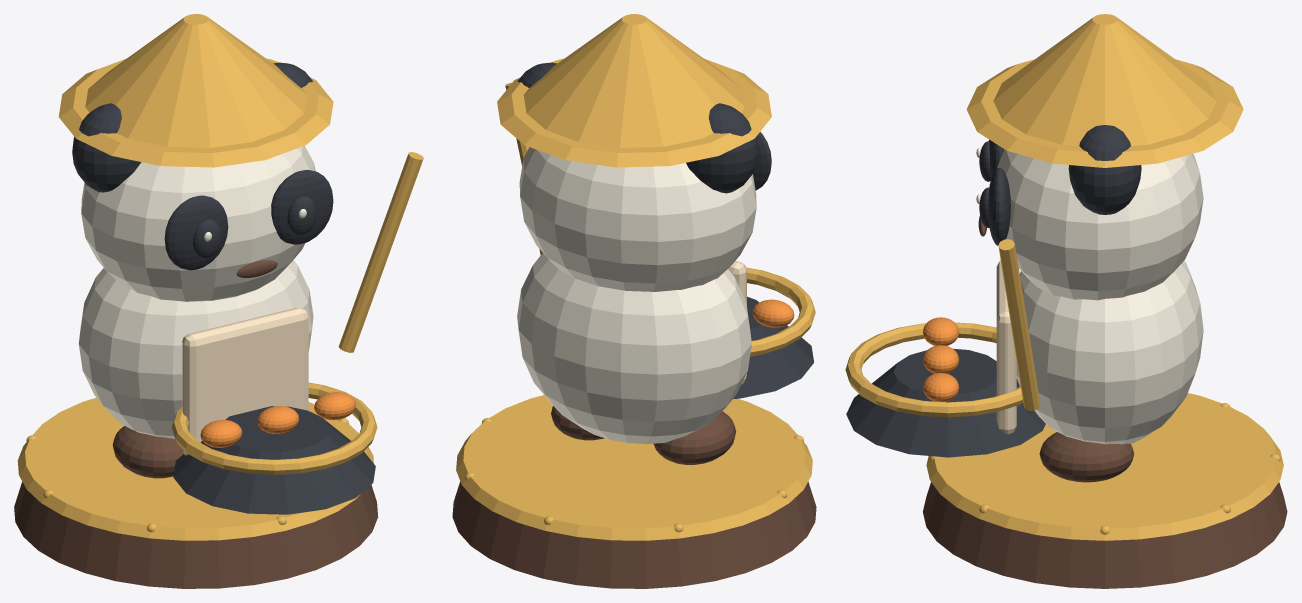
File: 06-panda-chef.glb
The picture shows the model from 3 angles, left to right: view 1: azimuth 30°, elevation 25°; view 2: azimuth 150°, elevation 25°; view 3: azimuth 270°, elevation 25°; orthographic projection.
Parts seen in each view (by area): view 1: gold filigree rim, panda torso, black ear, carved walnut plinth, chef apron, noodle garnish; view 2: gold filigree rim, panda torso, carved walnut plinth, black ear, noodle garnish; view 3: gold filigree rim, panda torso, carved walnut plinth, black ear, noodle garnish, chef apron.
Boxes of the visible parts, <box> form: gold filigree rim: <box>17,14,423,540</box>; panda torso: <box>78,145,315,438</box>; black ear: <box>72,62,375,514</box>; carved walnut plinth: <box>14,260,377,588</box>; chef apron: <box>182,308,308,455</box>; noodle garnish: <box>200,392,355,447</box>; gold filigree rim: <box>456,14,815,540</box>; panda torso: <box>517,147,756,443</box>; carved walnut plinth: <box>452,406,816,588</box>; black ear: <box>517,62,813,398</box>; noodle garnish: <box>752,299,794,327</box>; gold filigree rim: <box>845,14,1283,540</box>; panda torso: <box>976,148,1203,444</box>; carved walnut plinth: <box>923,215,1287,588</box>; black ear: <box>846,125,1141,457</box>; noodle garnish: <box>923,317,959,401</box>; chef apron: <box>996,260,1016,434</box>.
Size of the model in its own units: 1.06 by 1.49 by 1.21.
